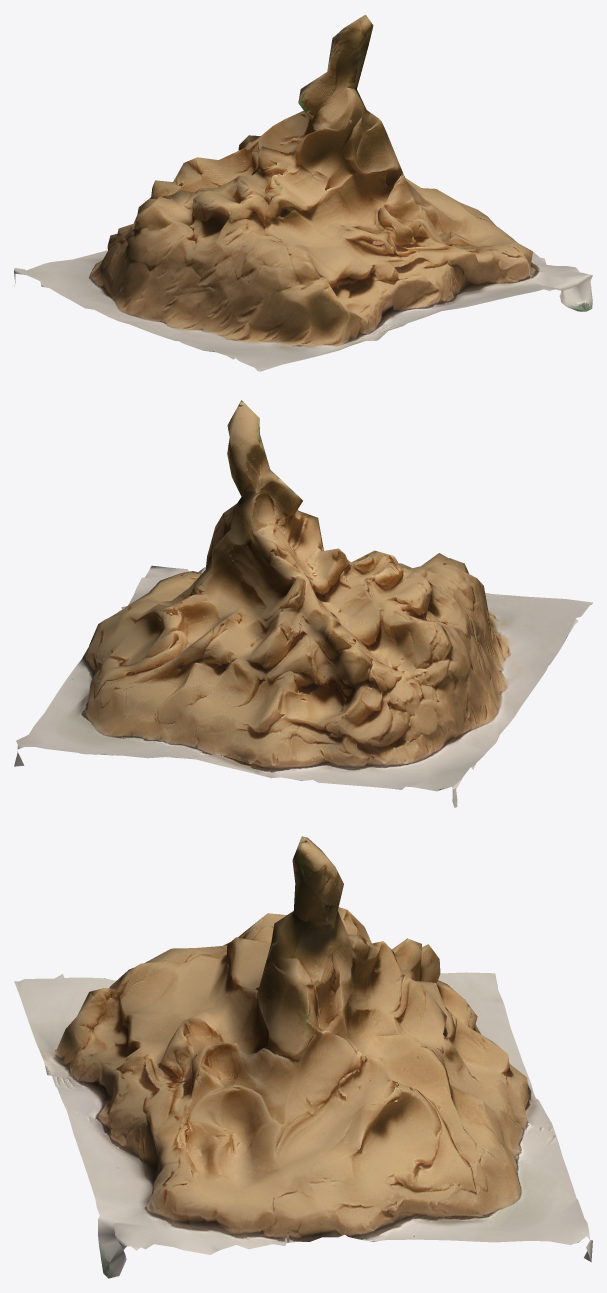
File: GPGre_MamanLOD18.fbx
The picture shows the model from 3 angles, top to bottom: view 1: azimuth 30°, elevation 25°; view 2: azimuth 150°, elevation 25°; view 3: azimuth 270°, elevation 25°; orthographic projection. The views are drawn at different scales.
Visible parts, largest first — view 1: Model; view 2: Model; view 3: Model.
Part boxes in pixels (<box>): Model: <box>14,14,592,371</box>; Model: <box>14,400,592,807</box>; Model: <box>14,836,592,1278</box>.
Size of the model in its own units: 2.35 by 1.49 by 2.14.
